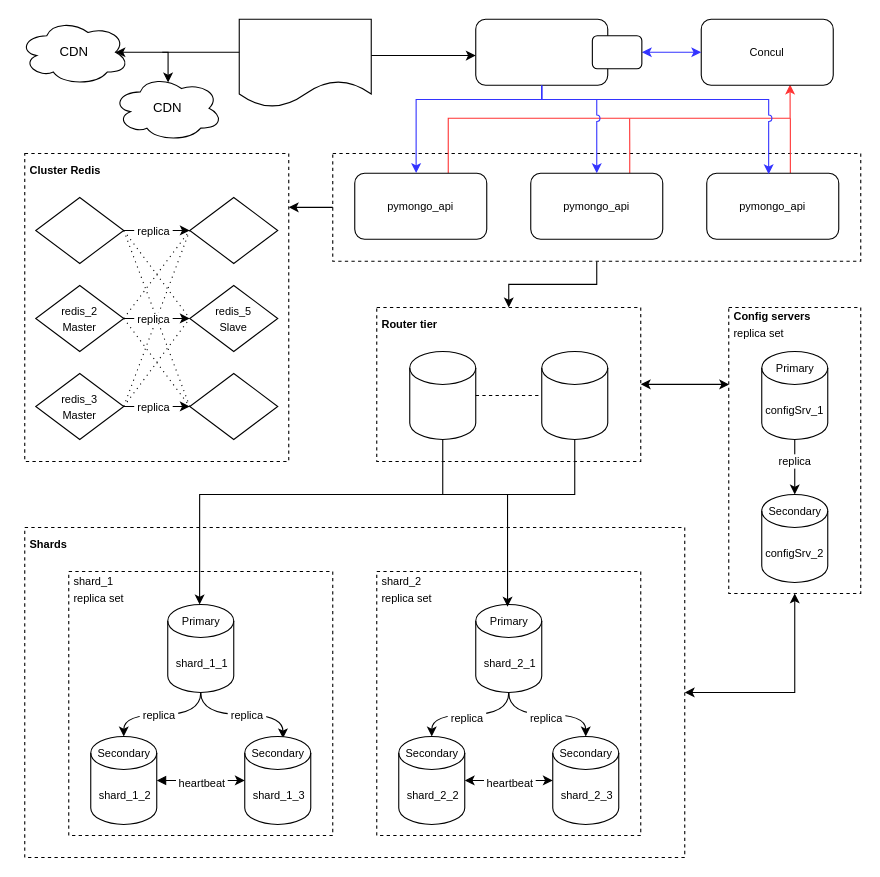
Image size: 880x877. Some labels were removed from this diagram. Each missing label, with the centre of its shape:
API Gateway: point (541, 51)
Concul driver: point (616, 52)
mongos_ router_ 1: point (442, 394)
mongos_ router_2: point (574, 394)
redis_1 Master: point (79, 229)
redis_4 Slave: point (233, 229)
redis_6 Slave: point (233, 405)
UI: point (304, 62)
